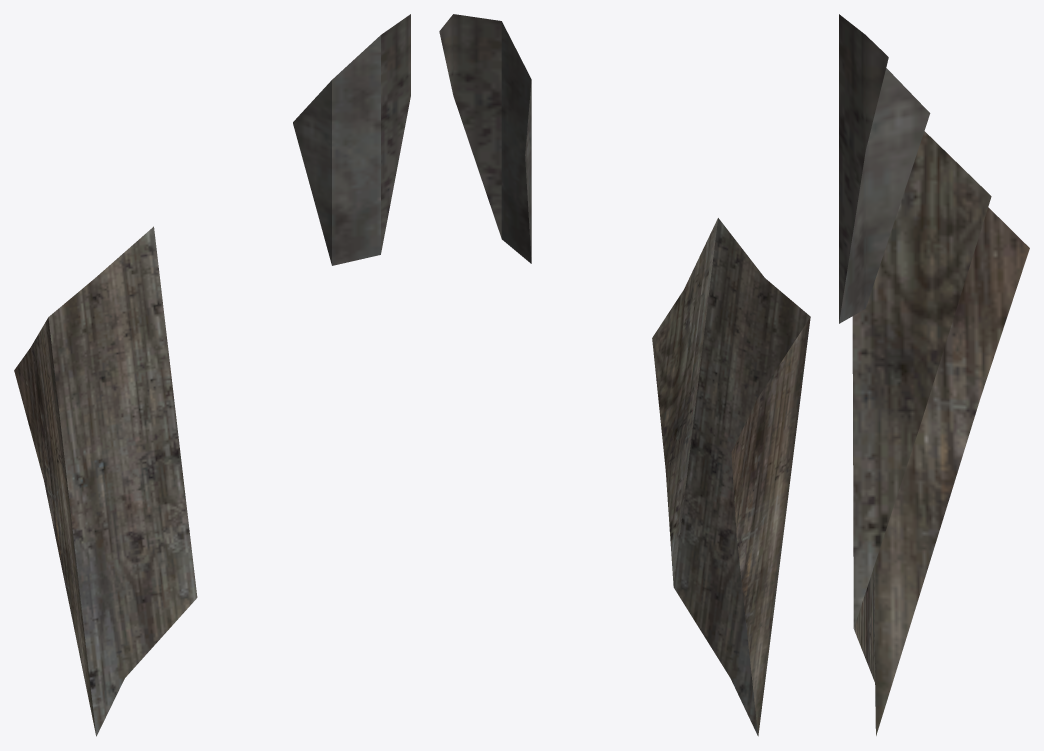
File: Wagon3_3.fbx
The picture shows the model from 3 angles, left to right: view 1: azimuth 30°, elevation 25°; view 2: azimuth 150°, elevation 25°; view 3: azimuth 270°, elevation 25°; orthographic projection. The views are drawn at different scales.
Visible parts, largest first — view 1: SM_Wagon03_DM.003; view 2: SM_Wagon03_DM.003; view 3: SM_Wagon03_DM.003.
Part boxes in pixels (box(x1,y1,x2,y2)): SM_Wagon03_DM.003: box(14, 14, 410, 736); SM_Wagon03_DM.003: box(439, 14, 810, 736); SM_Wagon03_DM.003: box(839, 14, 1029, 735).
Size of the model in its own units: 2530 by 4279 by 808.
